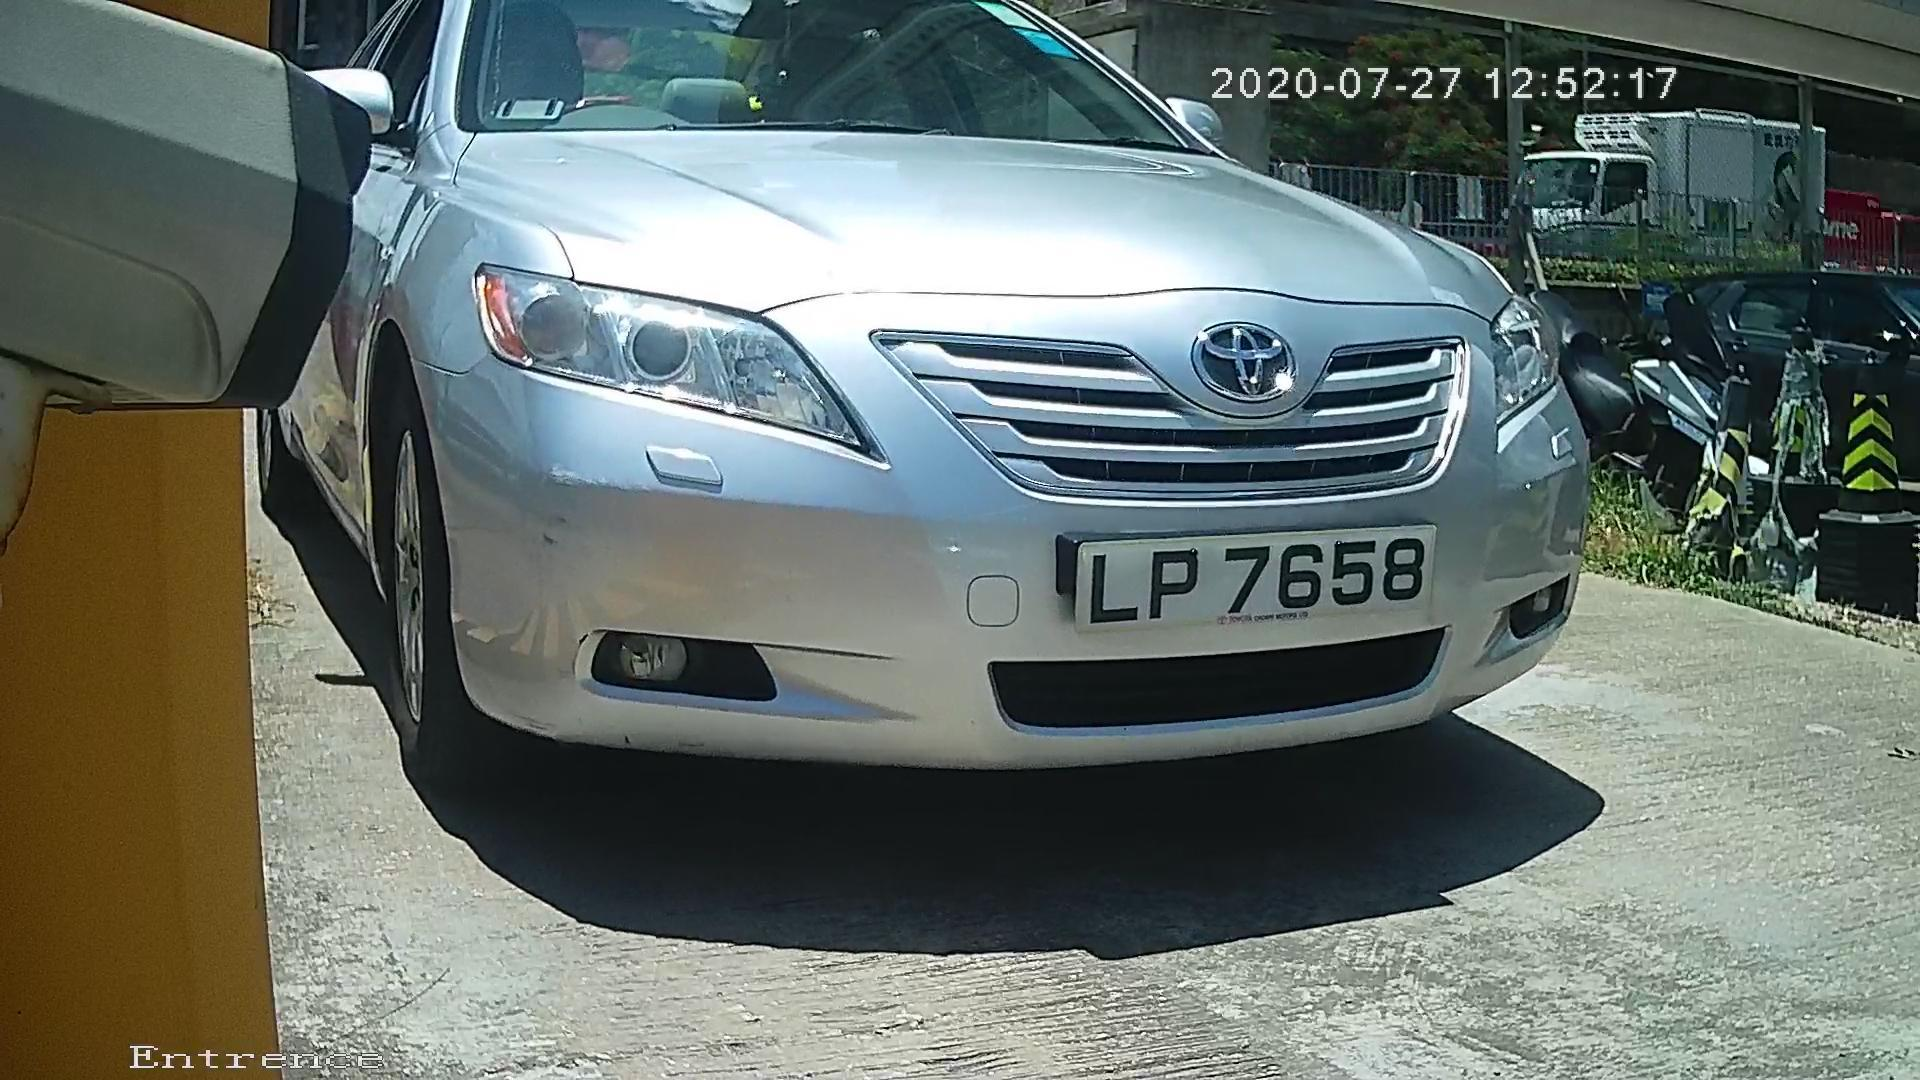Car: (172, 39, 1595, 902)
License Plate: (1046, 512, 1449, 656)
